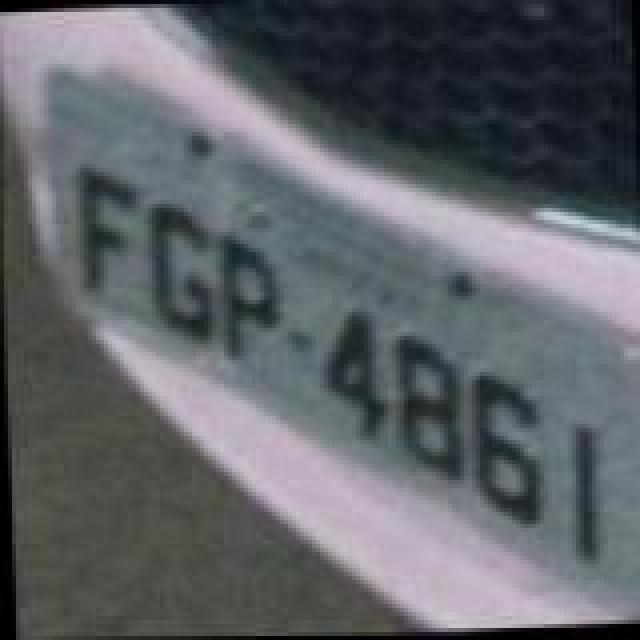1: (560, 418, 608, 566)
4: (314, 300, 390, 440)
6: (468, 366, 544, 530)
8: (394, 328, 466, 488)
F: (60, 162, 144, 298)
G: (138, 200, 214, 344)
P: (214, 226, 286, 366)
